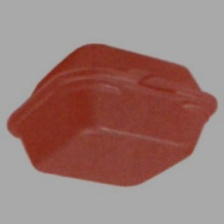foam_box: (2, 39, 222, 195)
